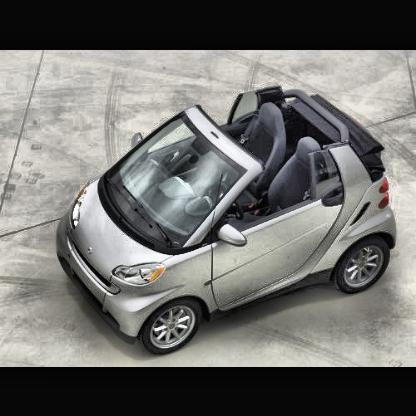smart fortwo Convertible 2012: (56, 86, 398, 358)
